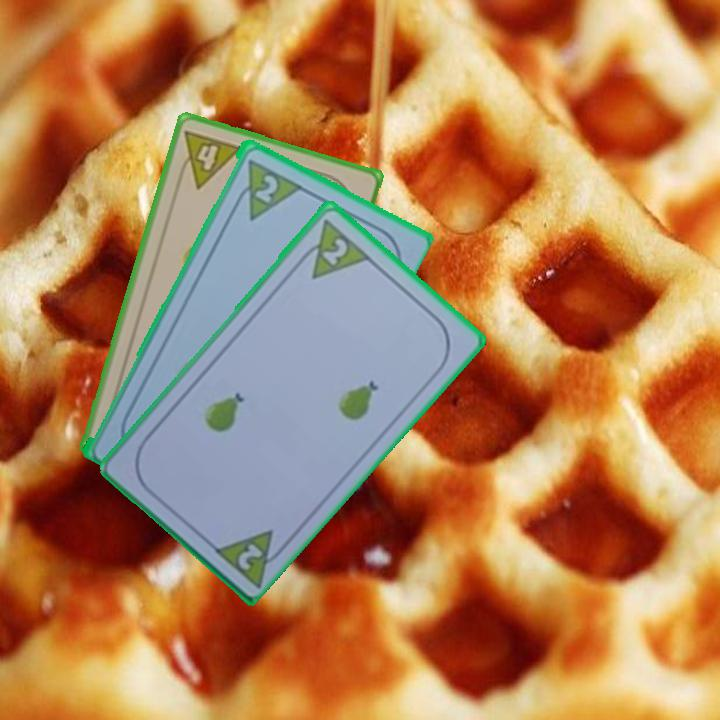2p: (293, 214, 373, 282), (234, 539, 267, 573), (251, 170, 281, 205)
4p: (172, 126, 245, 192)
